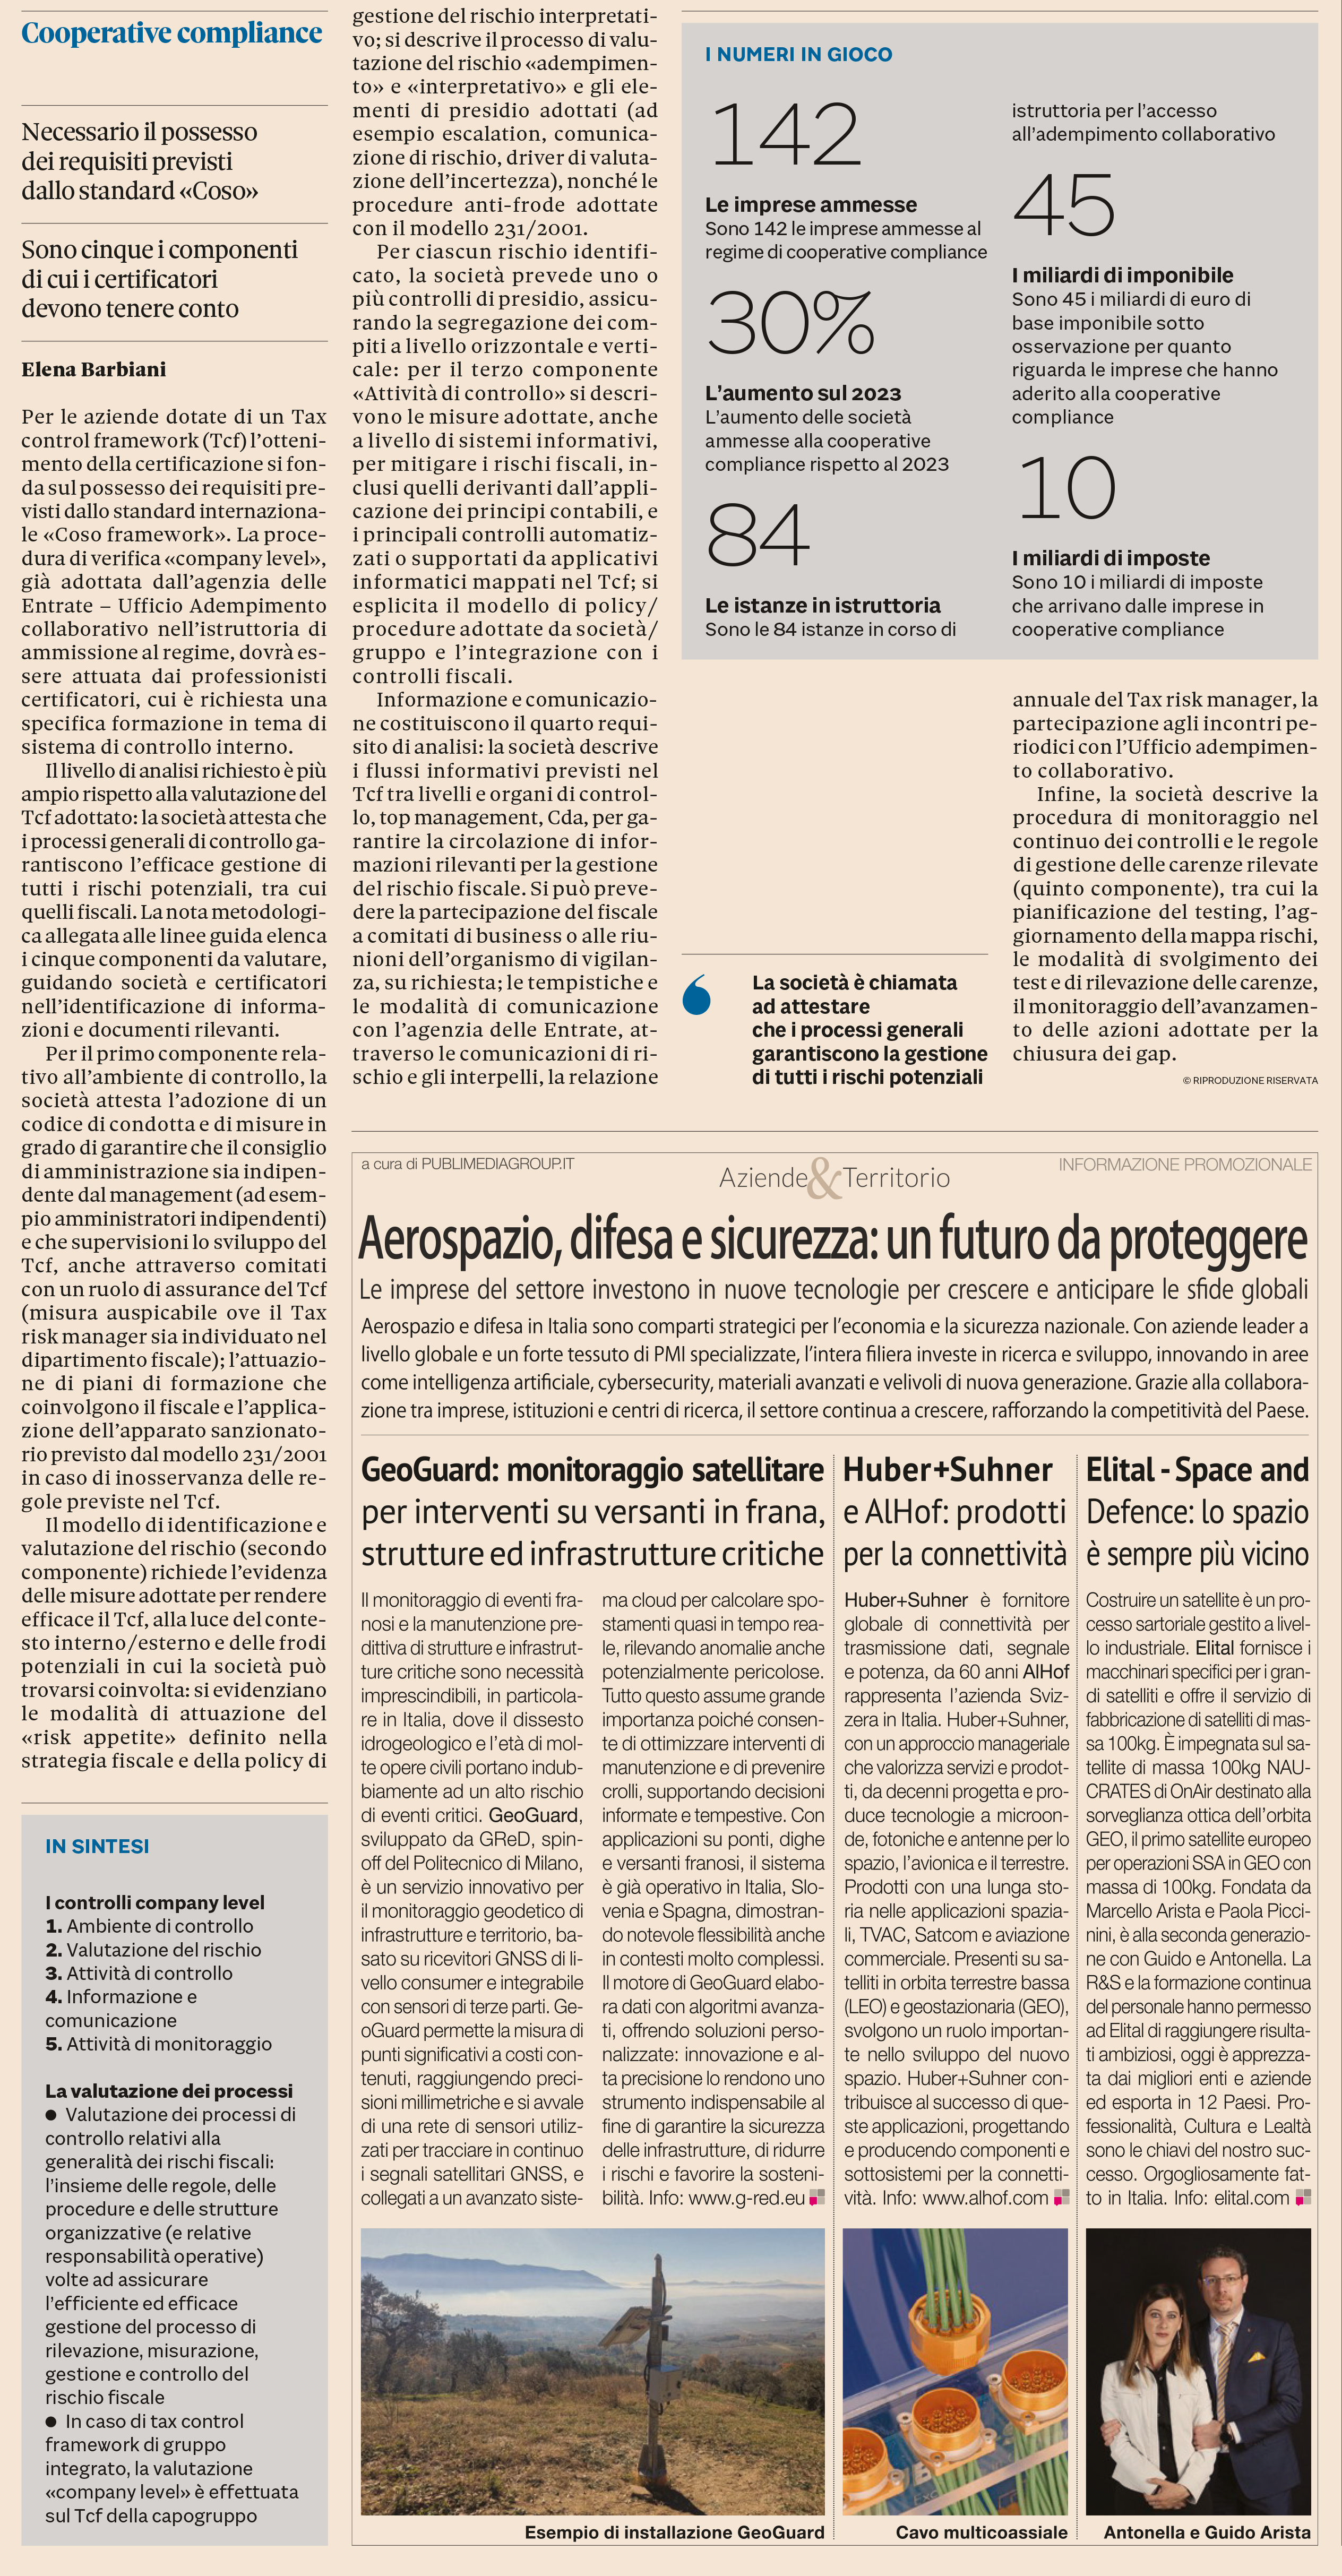scheda-numerone-1: (995, 145, 1305, 448), (691, 267, 1007, 492), (989, 433, 1301, 649), (690, 70, 1001, 279), (697, 480, 1001, 656)
scheda-testo-2: (22, 2058, 324, 2544)
scheda-testo-2.1: (26, 1820, 320, 2079)
